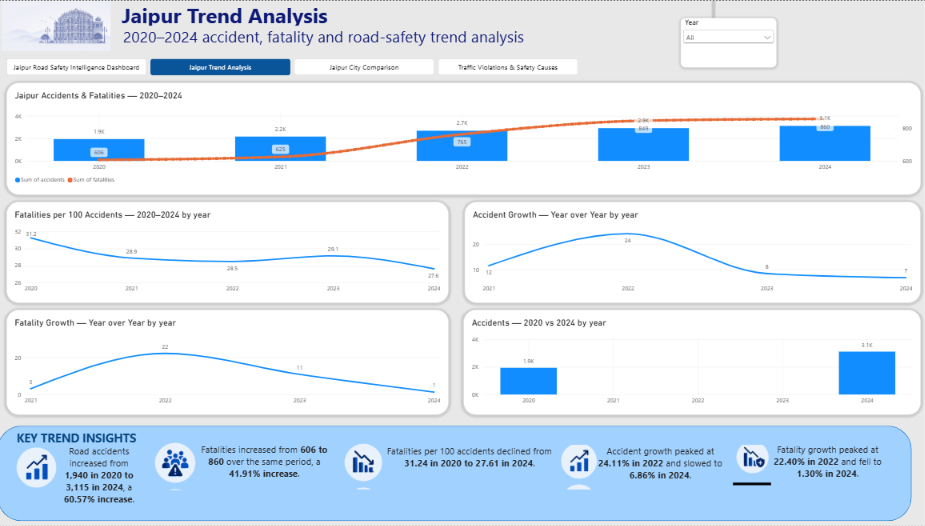

What the dashboard file says about the page in this screenshot:
{"tool":"powerbi","page":{"name":"Jaipur Trend Analysis","canvas":[1920,1080],"ordinal":1},"visuals":[{"type":"lineChart","fields":{"Category":["jaipur_safety_trend_analysis.year"],"Y":["Sum(jaipur_safety_trend_analysis.fatalities_per_100_accidents)"]},"box":[18.5,413.7,909.8,207.9],"z":0},{"type":"lineChart","fields":{"Category":["jaipur_safety_trend_analysis.year"],"Y":["Sum(jaipur_safety_trend_analysis.fatality_yoy_%)"]},"box":[18.5,636,909.8,216.1],"z":1000},{"type":"lineChart","fields":{"Category":["jaipur_safety_trend_analysis.year"],"Y":["Sum(jaipur_safety_trend_analysis.accident_yoy_%)"]},"box":[961.2,413.7,938.6,207.9],"z":2000},{"type":"clusteredColumnChart","fields":{"Category":["jaipur_safety_trend_analysis.year"],"Y":["Sum(jaipur_safety_trend_analysis.accidents)"]},"box":[959.2,636,940.7,216.1],"z":3000},{"type":"textbox","box":[255.2,0,1222.6,51.5],"z":5000},{"type":"slicer","fields":{"Values":["jaipur_safety_trend_analysis.year"]},"box":[1405.8,35,197.6,102.4],"z":6000},{"type":"textbox","box":[65.9,51.5,1210.3,70],"z":7000},{"type":"pageNavigator","box":[18.5,119.4,1179.4,35],"z":8000},{"type":"image","box":[0,0,240.8,102.9],"z":9000},{"type":"shape","box":[0,875,1881.2,195.8],"z":10001},{"type":"textbox","box":[39.6,883.3,935.4,54.2],"z":10002},{"type":"image","box":[39.6,914.6,81.2,93.8],"z":10003},{"type":"textbox","box":[120.8,914.6,175,150],"z":10004},{"type":"image","box":[275,910.4,179.2,97.9],"z":10005},{"type":"textbox","box":[410.4,910.4,279.2,168.8],"z":10006},{"type":"image","box":[637.5,912.5,229.2,93.8],"z":10007},{"type":"textbox","box":[787.5,914.6,366.7,93.8],"z":10008},{"type":"image","box":[1114.6,914.6,166.7,91.7],"z":10009},{"type":"textbox","box":[1225,914.6,279.2,93.8],"z":10010},{"type":"image","box":[1479.2,914.6,145.8,83.3],"z":10011},{"type":"textbox","box":[1589.6,910.4,239.6,97.9],"z":10012},{"type":"lineClusteredColumnComboChart","title":"Jaipur Accidents & Fatalities — 2020–2024","fields":{"Category":["jaipur_safety_trend_analysis.year"],"Y":["Sum(jaipur_safety_trend_analysis.accidents)"],"Y2":["Sum(jaipur_safety_trend_analysis.fatalities)"]},"box":[18.5,168.8,1881.3,230.5],"z":10013}]}

Visuals, with their boxes in screenshot pixels (x1, y1, x2, y2), scaled from the page's 1920x1080 canvas onto the 925x526 screenshot:
lineChart - jaipur_safety_trend_analysis.year x Sum(jaipur_safety_trend_analysis.fatalities_per_100_accidents): detection(9, 201, 447, 303)
lineChart - jaipur_safety_trend_analysis.year x Sum(jaipur_safety_trend_analysis.fatality_yoy_%): detection(9, 310, 447, 415)
lineChart - jaipur_safety_trend_analysis.year x Sum(jaipur_safety_trend_analysis.accident_yoy_%): detection(463, 201, 915, 303)
clusteredColumnChart - jaipur_safety_trend_analysis.year x Sum(jaipur_safety_trend_analysis.accidents): detection(462, 310, 915, 415)
textbox: detection(123, 0, 712, 25)
slicer - jaipur_safety_trend_analysis.year: detection(677, 17, 772, 67)
textbox: detection(32, 25, 615, 59)
pageNavigator: detection(9, 58, 577, 75)
image: detection(0, 0, 116, 50)
shape: detection(0, 426, 906, 522)
textbox: detection(19, 430, 470, 457)
image: detection(19, 445, 58, 491)
textbox: detection(58, 445, 143, 518)
image: detection(132, 443, 219, 491)
textbox: detection(198, 443, 332, 525)
image: detection(307, 444, 418, 490)
textbox: detection(379, 445, 556, 491)
image: detection(537, 445, 617, 490)
textbox: detection(590, 445, 725, 491)
image: detection(713, 445, 783, 486)
textbox: detection(766, 443, 881, 491)
"Jaipur Accidents & Fatalities — 2020–2024" lineClusteredColumnComboChart: detection(9, 82, 915, 194)
